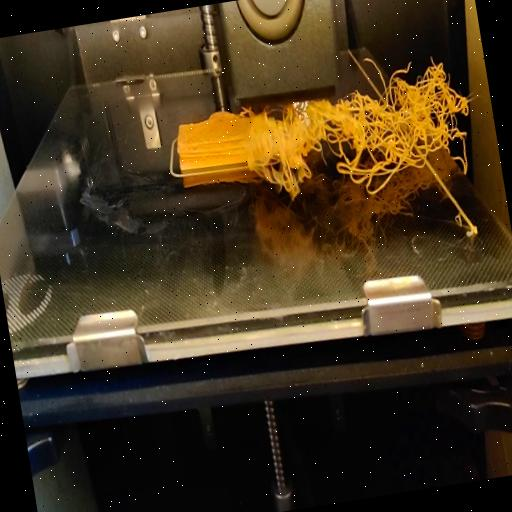spaghetti: (328, 38, 490, 204)
